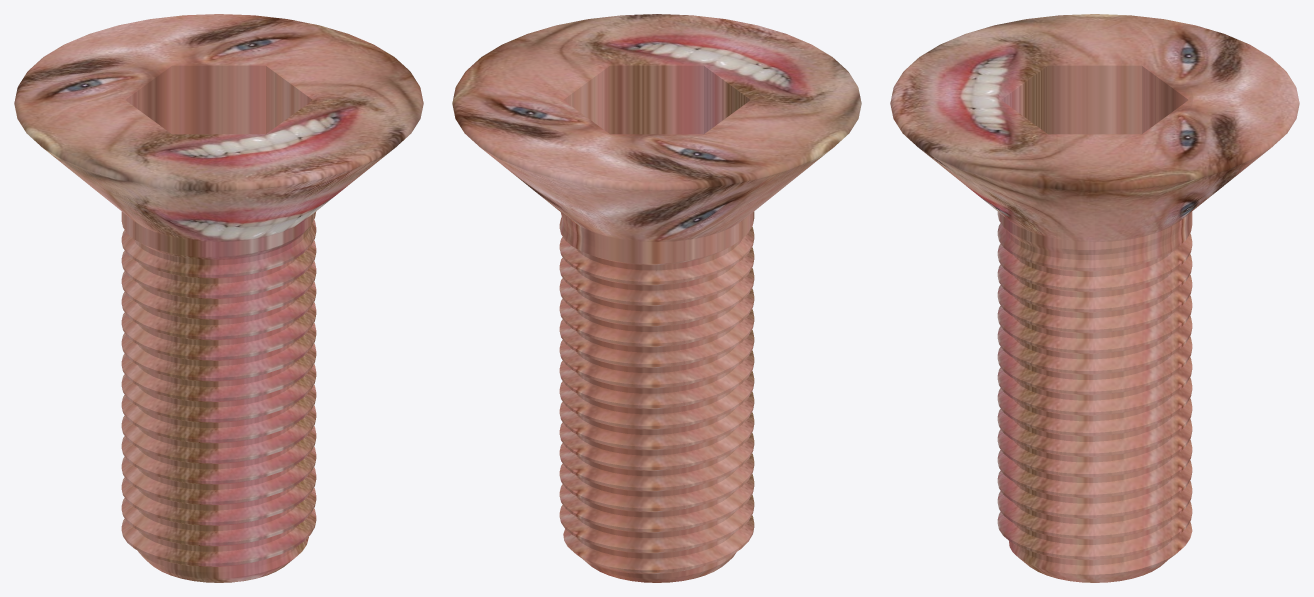
Rendered from kroeger-counter-sink-allen-bolt.glb.
3 views of the same model, side by side, from view 1: azimuth 30°, elevation 25°; view 2: azimuth 150°, elevation 25°; view 3: azimuth 270°, elevation 25° (orthographic).
Visible parts, largest first — view 1: Bolt.026; view 2: Bolt.026; view 3: Bolt.026.
Part boxes in pixels (bbox=[...]): Bolt.026: bbox=[14, 14, 423, 582]; Bolt.026: bbox=[452, 14, 861, 582]; Bolt.026: bbox=[890, 14, 1299, 582].
Bounding box in the file's own units: 0.0126 × 0.0154 × 0.0126.
Materials: 1 (1 with a texture image).
